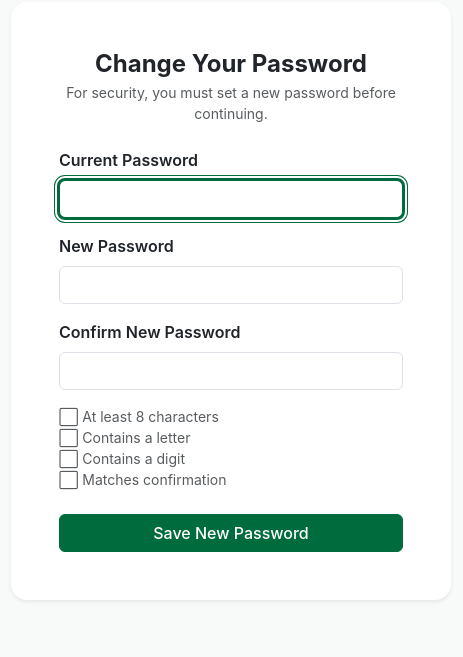
Change Password Screen (AC-02, BR-09, BR-10, BR-11) › UI-02c: submits and shows a server-side rejection (e.g. reused password, BR-10)
This screenshot has width=463, height=657.
In the password field labelled "Current Password": (231, 199) [59,180,403,218], type "SamePass123"
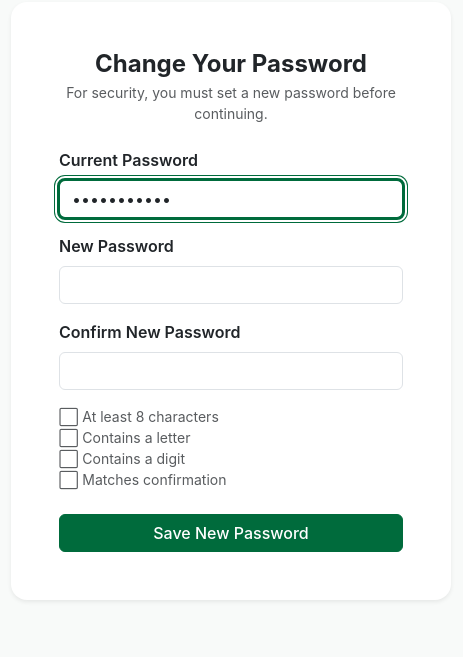
In the password field labelled "New Password": (231, 285) [59,266,403,304], type "SamePass123"
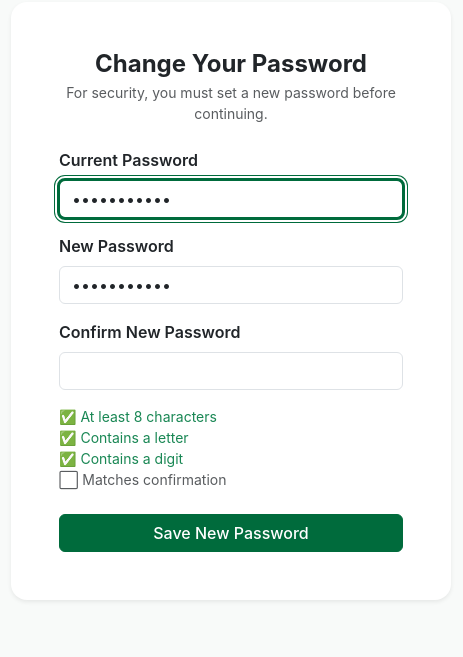
In the password field labelled "Confirm New Password": (231, 371) [59,352,403,390], type "SamePass123"
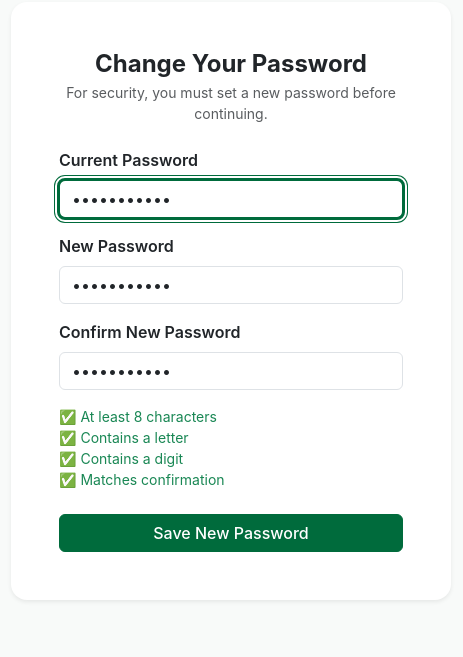
Click the button "Save New Password": (231, 533) [59,514,403,552]
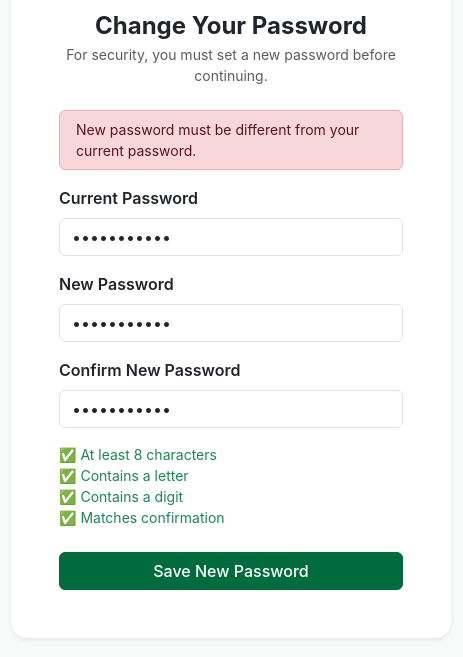
Check: the text "New password must be different from your current password." is shown, box [59,110,403,170]
